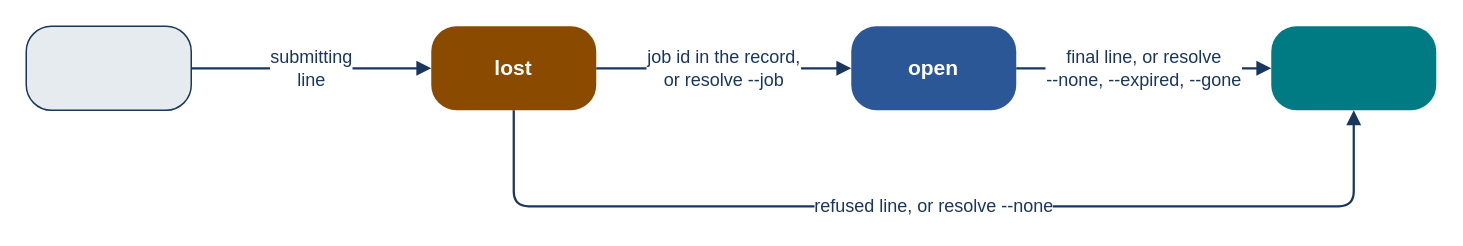
Image size: 1463x246. Some labels were removed from this diagram. Each missing label, with the centre of its shape:
"final" belongs at point 1353,68.
"unsent" belongs at point 108,67.
